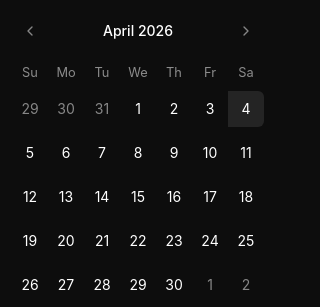
Calendar keyboard navigation › opens a month picker from the month-year caption and pages years
This screenshot has width=320, height=307.
Later steps or results of the test are not shown.
Click the button named "caption-month-year" at (138, 31), box [94,16,182,46]
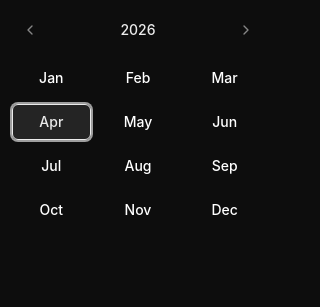
Check: the text "2026" is shown, box [120,21,156,38]
Check: the element showing "2026 Jan Feb Mar Apr May Jun Jul Aug Sep Oct Nov Dec" is shown
